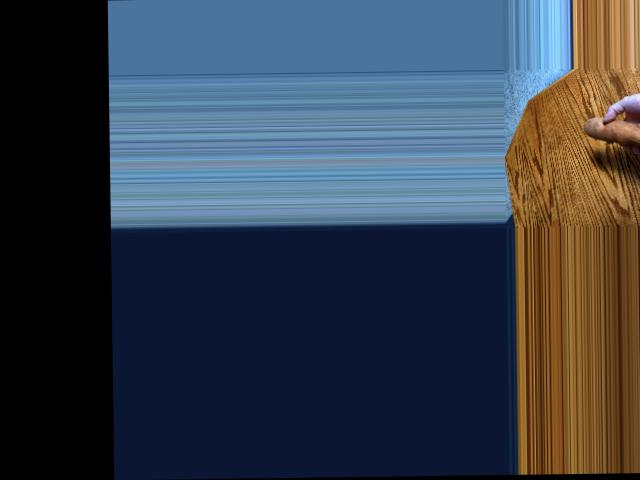sweet_potato: (577, 120, 640, 151)
